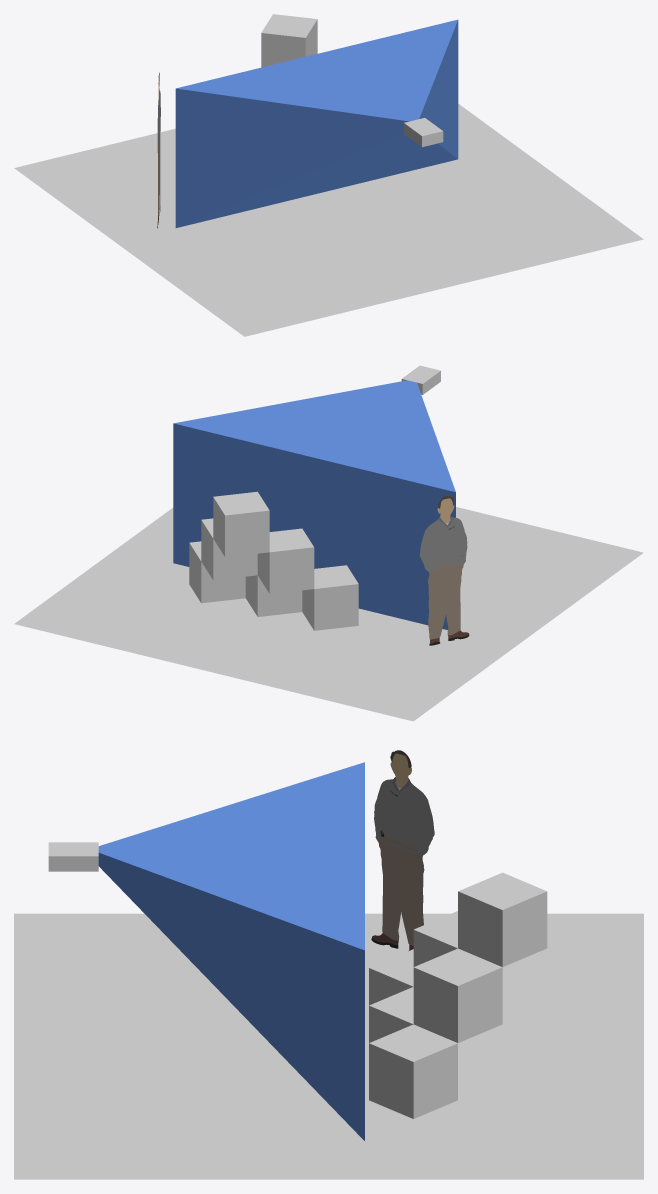
Rendered from SET_10_Cubos.obj.
3 views of the same model, one above another, from view 1: azimuth 30°, elevation 25°; view 2: azimuth 150°, elevation 25°; view 3: azimuth 270°, elevation 25° (orthographic). The views are drawn at different scales.
Visible parts, largest first — view 1: Mesh2 Component_9_1 Model, Mesh3 Component_67_1 Component_66_1 Component_65_1 Model, Mesh10 Component_85_6 Model, Mesh4 Component_6_1 Component_66_1 Component_65_1 Model; view 2: Mesh2 Component_9_1 Model, Mesh3 Component_67_1 Component_66_1 Component_65_1 Model, Mesh1 Derrick1 Model, Mesh10 Component_85_6 Model, Mesh8 Component_85_4 Model, Mesh7 Component_85_3 Model, Mesh9 Component_85_5 Model, Mesh5 Component_85_1 Model, Mesh6 Component_85_2 Model, Mesh4 Component_6_1 Component_66_1 Component_65_1 Model; view 3: Mesh2 Component_9_1 Model, Mesh3 Component_67_1 Component_66_1 Component_65_1 Model, Mesh1 Derrick1 Model, Mesh9 Component_85_5 Model, Mesh10 Component_85_6 Model, Mesh5 Component_85_1 Model, Mesh7 Component_85_3 Model, Mesh6 Component_85_2 Model, Mesh8 Component_85_4 Model, Mesh4 Component_6_1 Component_66_1 Component_65_1 Model.
Part boxes in pixels (x1=…): Mesh2 Component_9_1 Model: x1=14, y1=104, x2=643, y2=336; Mesh3 Component_67_1 Component_66_1 Component_65_1 Model: x1=175, y1=19, x2=458, y2=227; Mesh10 Component_85_6 Model: x1=261, y1=14, x2=317, y2=67; Mesh4 Component_6_1 Component_66_1 Component_65_1 Model: x1=404, y1=118, x2=443, y2=147; Mesh2 Component_9_1 Model: x1=14, y1=507, x2=643, y2=721; Mesh3 Component_67_1 Component_66_1 Component_65_1 Model: x1=173, y1=380, x2=455, y2=629; Mesh1 Derrick1 Model: x1=419, y1=495, x2=469, y2=645; Mesh10 Component_85_6 Model: x1=213, y1=491, x2=269, y2=557; Mesh8 Component_85_4 Model: x1=257, y1=528, x2=314, y2=593; Mesh7 Component_85_3 Model: x1=302, y1=565, x2=358, y2=630; Mesh9 Component_85_5 Model: x1=201, y1=518, x2=257, y2=580; Mesh5 Component_85_1 Model: x1=189, y1=541, x2=245, y2=603; Mesh6 Component_85_2 Model: x1=245, y1=575, x2=302, y2=616; Mesh4 Component_6_1 Component_66_1 Component_65_1 Model: x1=401, y1=365, x2=440, y2=394; Mesh2 Component_9_1 Model: x1=14, y1=913, x2=643, y2=1179; Mesh3 Component_67_1 Component_66_1 Component_65_1 Model: x1=98, y1=762, x2=364, y2=1140; Mesh1 Derrick1 Model: x1=371, y1=750, x2=434, y2=950; Mesh9 Component_85_5 Model: x1=413, y1=948, x2=502, y2=1042; Mesh10 Component_85_6 Model: x1=458, y1=872, x2=547, y2=967; Mesh5 Component_85_1 Model: x1=369, y1=1024, x2=457, y2=1118; Mesh7 Component_85_3 Model: x1=369, y1=949, x2=413, y2=1005; Mesh6 Component_85_2 Model: x1=369, y1=987, x2=413, y2=1042; Mesh8 Component_85_4 Model: x1=413, y1=911, x2=457, y2=966; Mesh4 Component_6_1 Component_66_1 Component_65_1 Model: x1=48, y1=842, x2=98, y2=871.
Size of the model in its own units: 5000 by 1755 by 5000.
